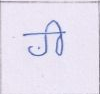i_matra: (49, 19, 64, 55)
